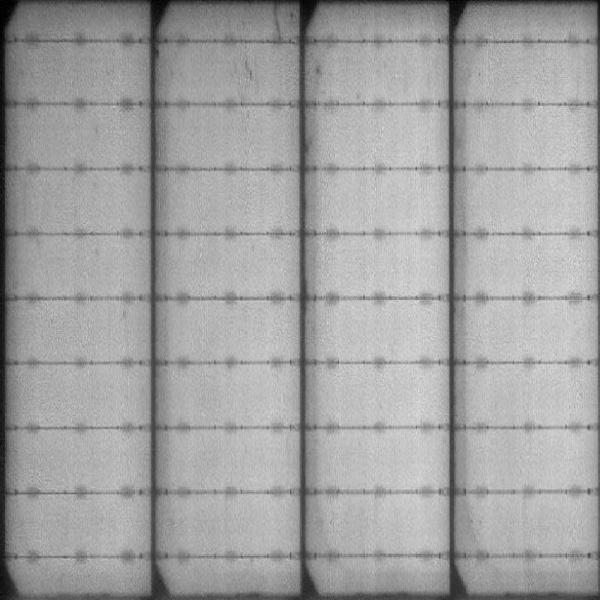scratch: (267, 1, 295, 42)
